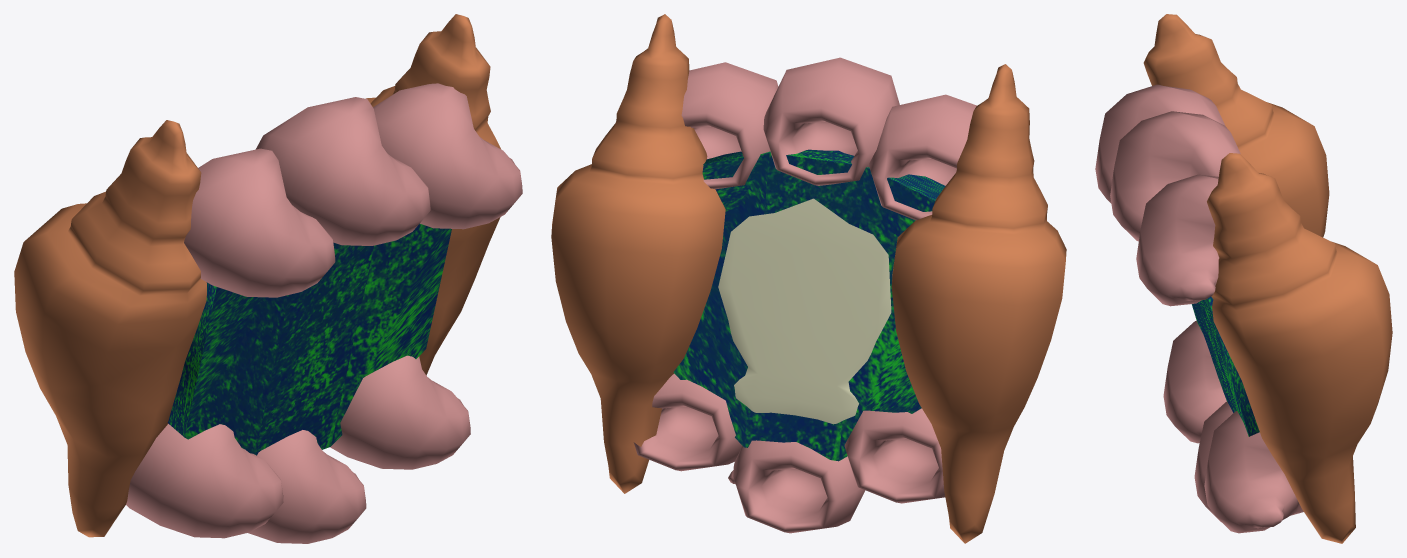
File: SwimmingIdol.fbx
3 renders of one model, left to right at view 1: azimuth 30°, elevation 25°; view 2: azimuth 150°, elevation 25°; view 3: azimuth 270°, elevation 25°, orthographic. The views are drawn at different scales.
Parts seen in each view (by area): view 1: Bone (2), Idol, Shell, Shell (1), Shell (2), Shell (4), Shell (5), Bone (1), Shell (3); view 2: Bone (2), Bone (1), Bone, Idol, Shell, Shell (3), Shell (2), Shell (1), Shell (4), Shell (5); view 3: Bone (1), Bone (2), Shell (2), Shell, Shell (5), Shell (4), Shell (1), Idol, Shell (3).
Part boxes in pixels (<box>): Bone (2): <box>14,120,206,537</box>; Idol: <box>167,223,451,455</box>; Shell: <box>255,97,430,245</box>; Shell (1): <box>184,148,335,297</box>; Shell (2): <box>373,83,522,229</box>; Shell (4): <box>126,424,283,538</box>; Shell (5): <box>330,355,470,469</box>; Bone (1): <box>366,14,501,375</box>; Shell (3): <box>248,430,366,543</box>; Bone (2): <box>891,64,1066,543</box>; Bone (1): <box>551,14,725,493</box>; Bone: <box>718,198,891,424</box>; Idol: <box>673,149,945,461</box>; Shell: <box>763,57,899,185</box>; Shell (3): <box>728,440,865,533</box>; Shell (2): <box>681,62,778,189</box>; Shell (1): <box>869,94,976,220</box>; Shell (4): <box>844,408,945,503</box>; Shell (5): <box>633,373,742,471</box>; Bone (1): <box>1207,153,1392,543</box>; Bone (2): <box>1143,14,1329,237</box>; Shell (2): <box>1136,174,1219,306</box>; Shell: <box>1110,111,1240,241</box>; Shell (5): <box>1204,411,1303,533</box>; Shell (4): <box>1163,320,1226,443</box>; Shell (1): <box>1095,84,1224,203</box>; Idol: <box>1191,296,1259,436</box>; Shell (3): <box>1194,402,1233,522</box>.
Size of the model in its own units: 1.01 by 0.9509 by 0.6048.
